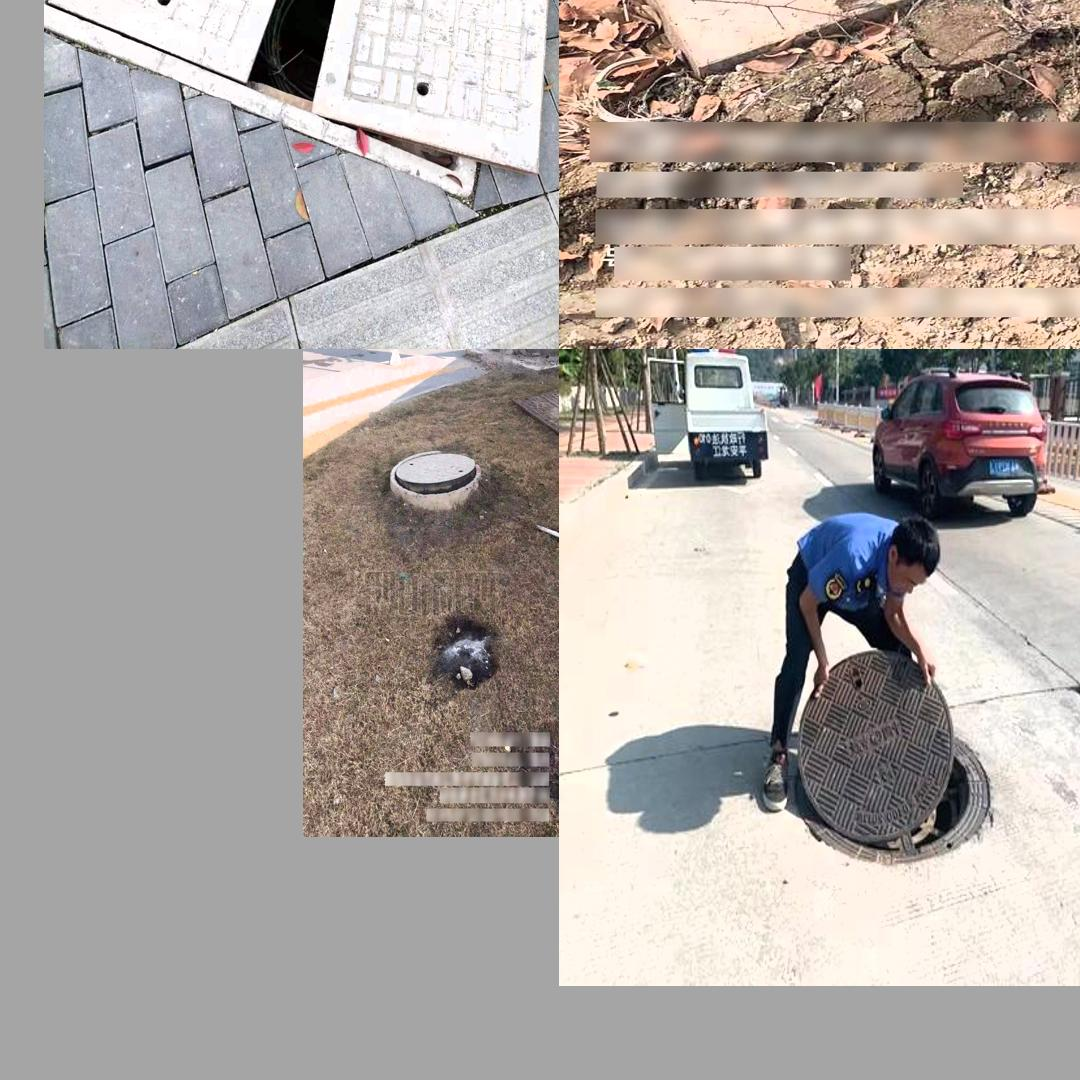uncovered: (46, 0, 557, 205), (788, 642, 997, 868), (582, 0, 1080, 75), (390, 449, 480, 500)
